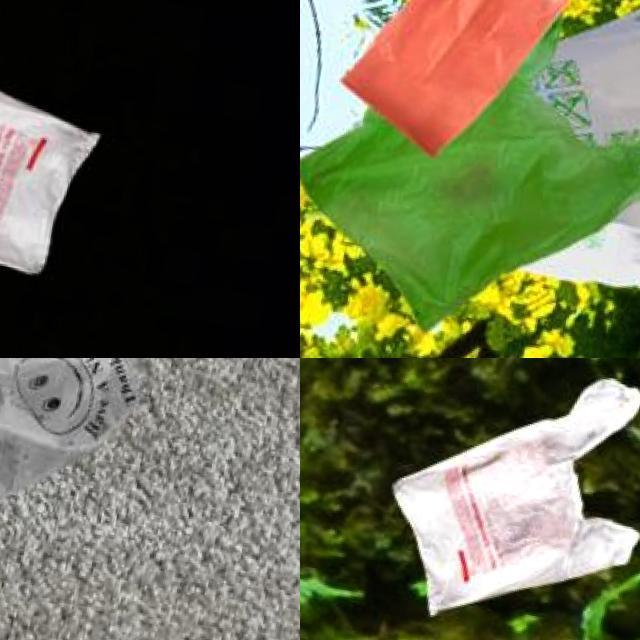waste: (300, 0, 640, 358), (372, 358, 640, 640), (482, 0, 640, 309), (336, 0, 601, 172), (0, 358, 166, 523), (0, 44, 109, 286)
